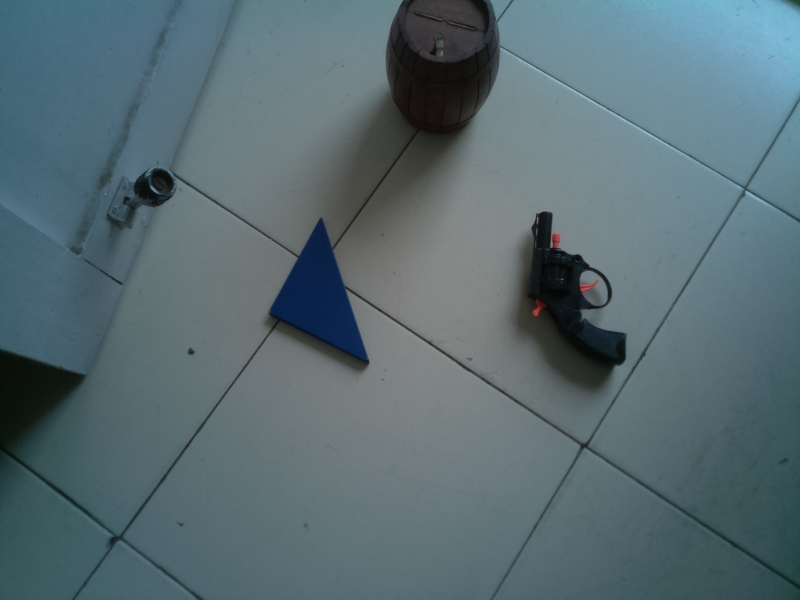Gun: (521, 208, 631, 371)
Triangle: (266, 214, 374, 370)
